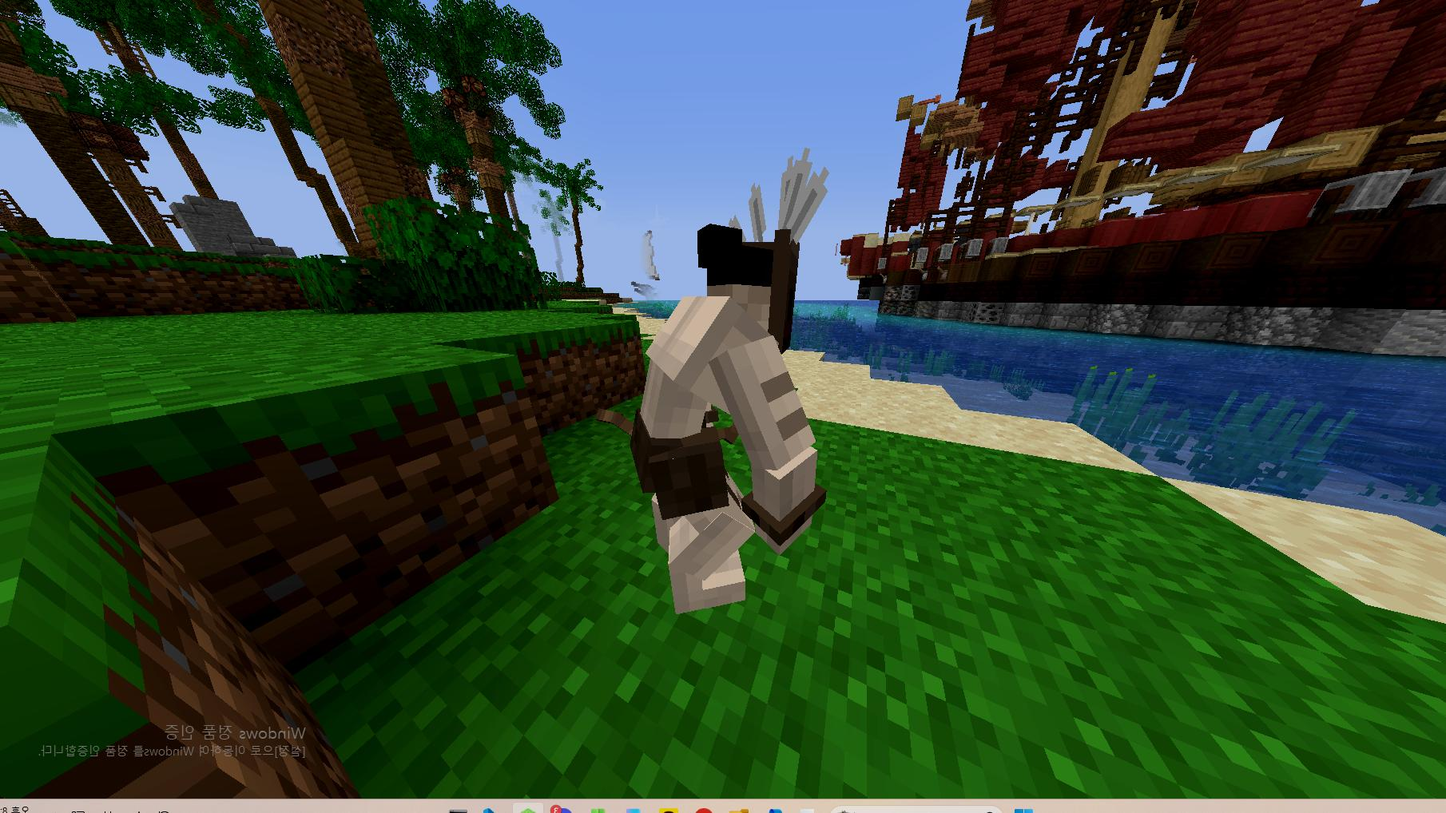bow_indian: (569, 176, 870, 637)
